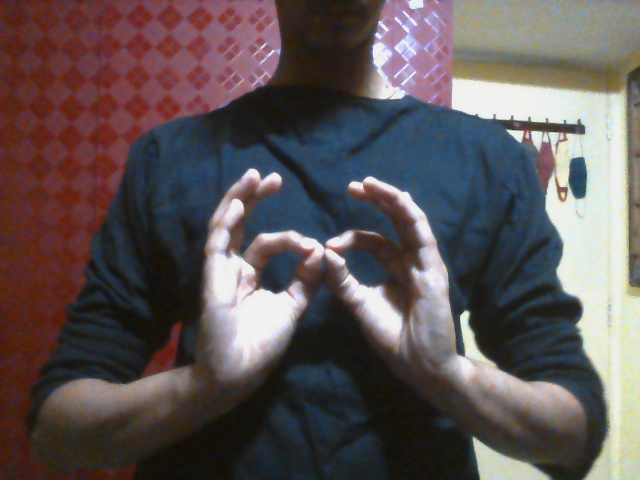B: (181, 166, 459, 413)
